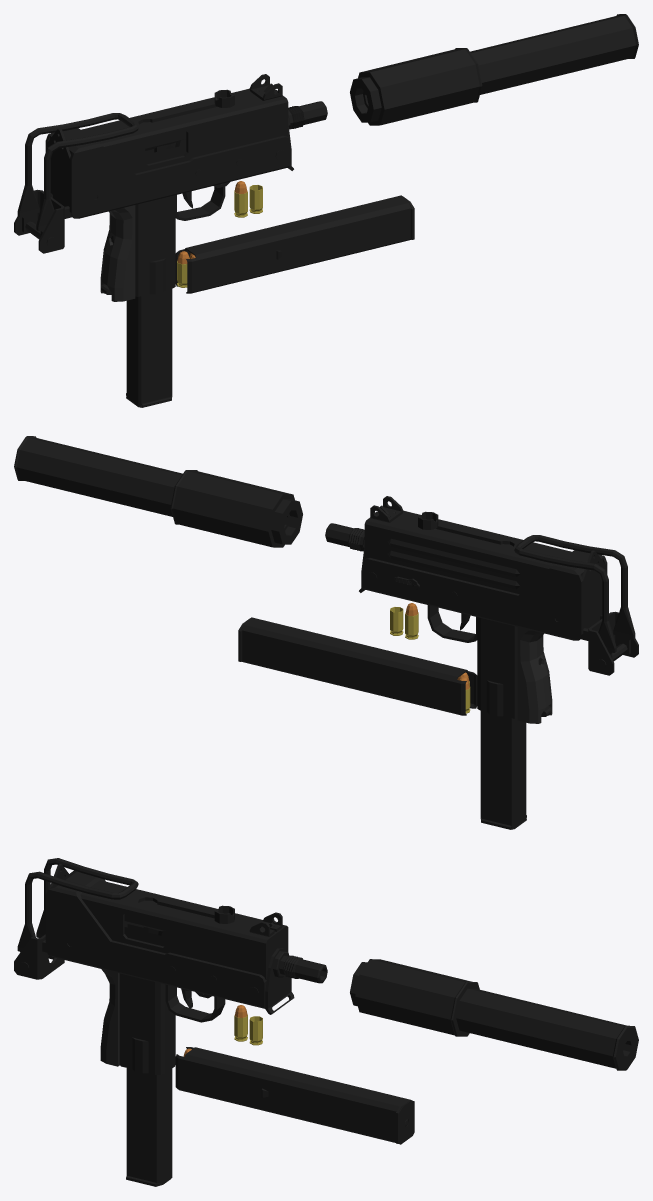
Rendered from ingram_mac_10.glb.
3 renders of one model, top to bottom at view 1: azimuth 30°, elevation 25°; view 2: azimuth 150°, elevation 25°; view 3: azimuth 330°, elevation 25°, orthographic.
Parts seen in each view (by area): view 1: m10 lower receiver_4, m10 silencer_14, mac10 45acp 30rnd mag_2, m10 upper receiver_5, mac10 45acp 30rnd mag empty_3, m10 stock butt_13, m10 bolt_10, m10 stock base_12, m10 5in barrel_6; view 2: m10 lower receiver_4, m10 silencer_14, mac10 45acp 30rnd mag_2, m10 upper receiver_5, mac10 45acp 30rnd mag empty_3, m10 stock butt_13, m10 stock base_12, m10 5in barrel_6, m10 bolt_10; view 3: m10 lower receiver_4, m10 silencer_14, mac10 45acp 30rnd mag_2, m10 upper receiver_5, mac10 45acp 30rnd mag empty_3, m10 stock butt_13, m10 bolt_10, m10 stock base_12, m10 5in barrel_6, 45acp_0.
Part boxes in pixels (x1,y1,x2,y2): m10 lower receiver_4: (45,128,290,301); m10 silencer_14: (350,14,638,125); mac10 45acp 30rnd mag_2: (175,195,414,293); m10 upper receiver_5: (81,74,293,173); mac10 45acp 30rnd mag empty_3: (126,260,172,407); m10 stock butt_13: (17,113,138,236); m10 bolt_10: (139,89,234,164); m10 stock base_12: (14,189,71,253); m10 5in barrel_6: (288,101,327,129); m10 lower receiver_4: (362,550,607,723); m10 silencer_14: (14,436,302,547); mac10 45acp 30rnd mag_2: (238,617,477,715); m10 upper receiver_5: (359,496,571,594); mac10 45acp 30rnd mag empty_3: (480,682,526,829); m10 stock butt_13: (514,535,635,658); m10 stock base_12: (581,611,638,675); m10 5in barrel_6: (325,523,364,551); m10 bolt_10: (418,511,513,548); m10 lower receiver_4: (45,864,266,1074); m10 silencer_14: (350,959,638,1070); mac10 45acp 30rnd mag_2: (175,1047,414,1144); m10 upper receiver_5: (80,880,294,1014); mac10 45acp 30rnd mag empty_3: (126,1038,172,1186); m10 stock butt_13: (17,858,138,957); m10 bolt_10: (124,900,234,946); m10 stock base_12: (14,934,64,979); m10 5in barrel_6: (273,951,327,983); 45acp_0: (234,1005,247,1041).
Size of the model in its own units: 6.01 by 2.78 by 0.5287.
